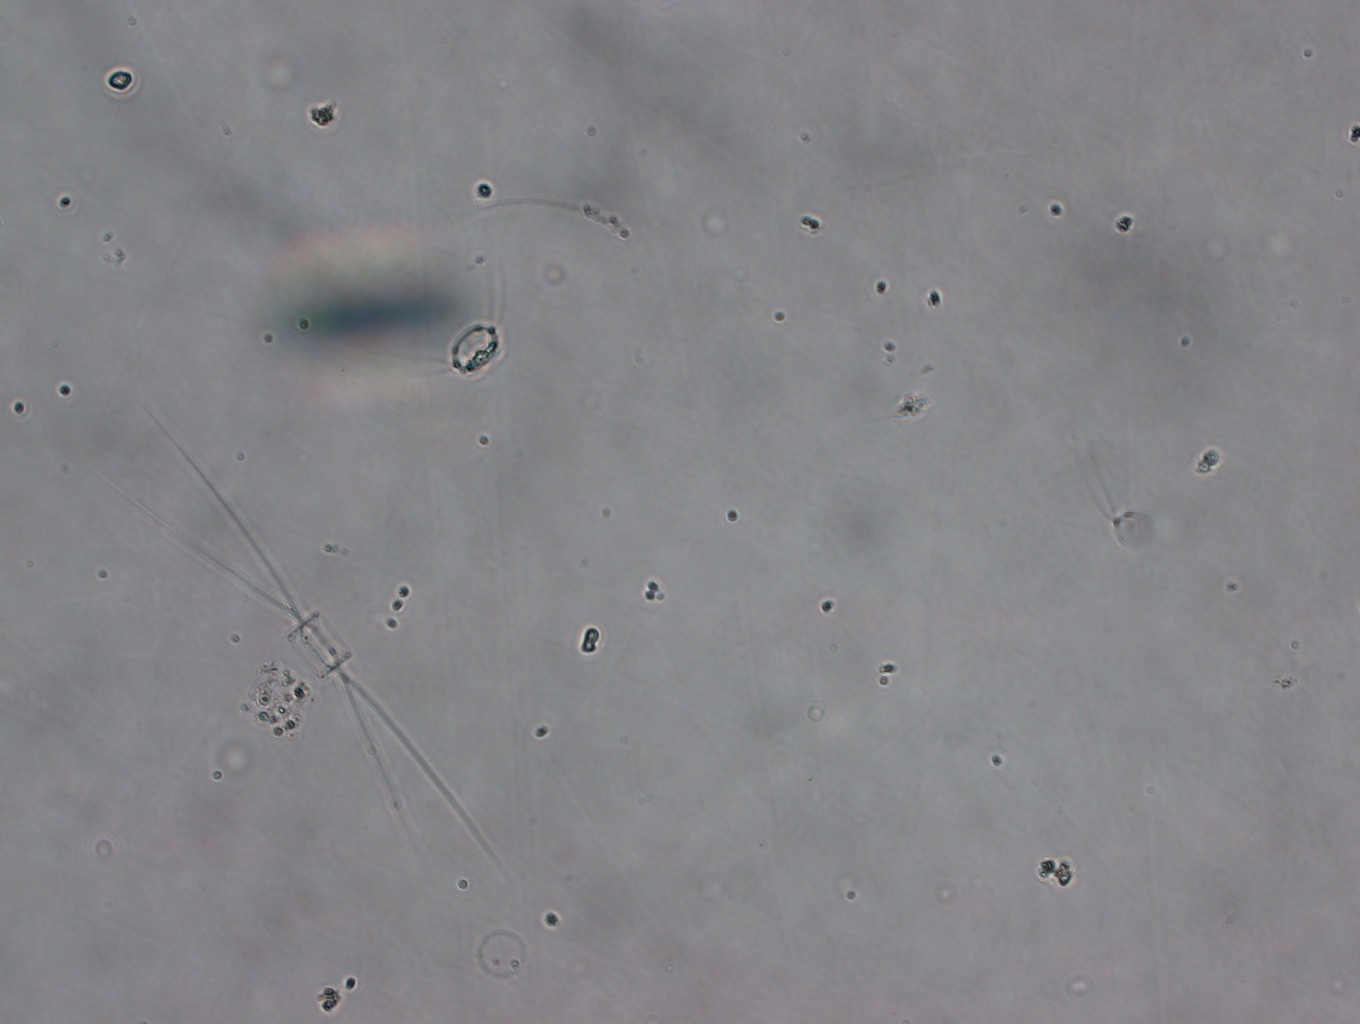chaetoceros: (102, 403, 514, 898), (346, 225, 509, 383)
